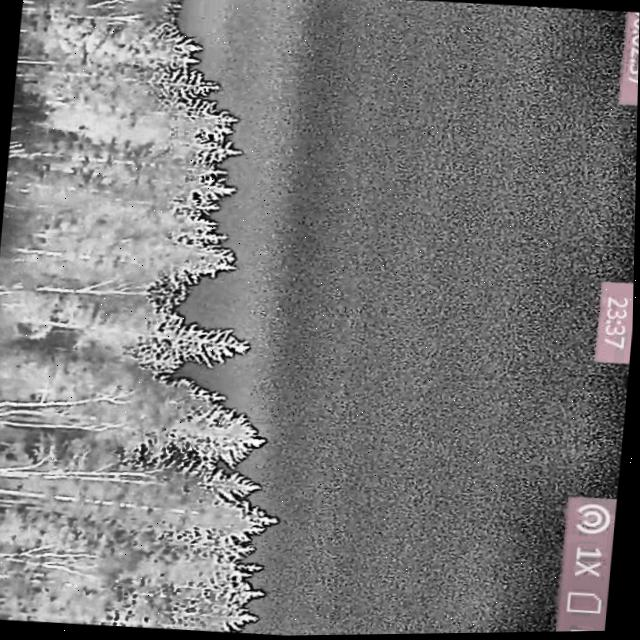drone: (219, 435, 239, 456)
